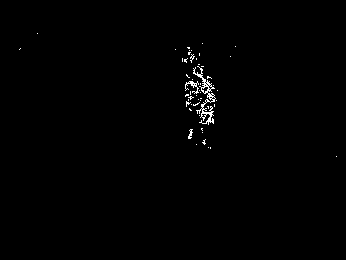person: (197, 72, 217, 152), (184, 63, 200, 141)
